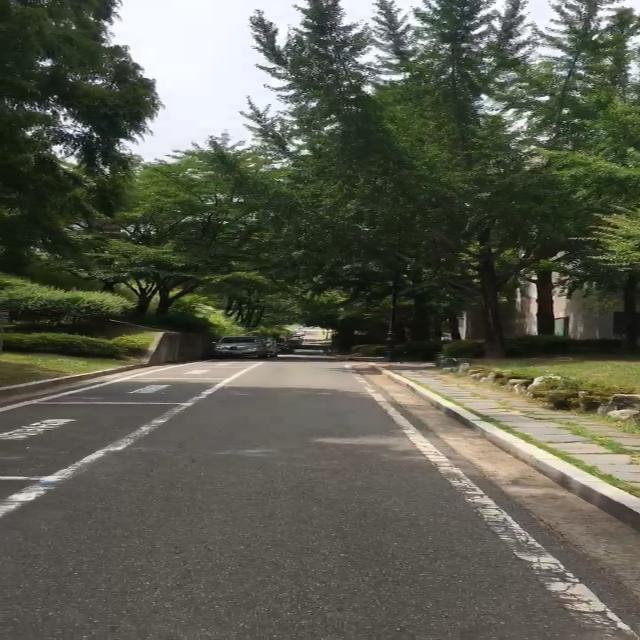obstacle: (213, 332, 305, 361)
road: (0, 362, 640, 640)
sidewalk: (389, 364, 640, 534)
